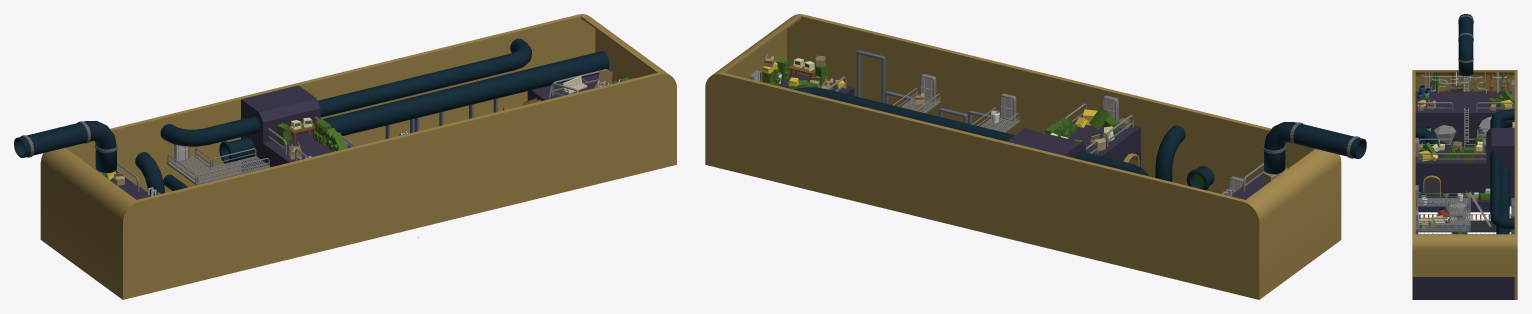
File: Room1Model.fbx
The picture shows the model from 3 angles, left to right: view 1: azimuth 30°, elevation 25°; view 2: azimuth 150°, elevation 25°; view 3: azimuth 270°, elevation 25°; orthographic projection. The views are drawn at different scales.
Parts seen in each view (by area): view 1: R1 Wall, Pipe .017, Pipe .018, R1A2 Platform, IN_Pipe.002, Cube.104, Cube.086, Pipe .024, Cube.082, Cube.105; view 2: R1 Wall, IN_Pipe.002, R1A2 Platform, Pipe .018, Pipe .026, Cube.086, Cube.162, Cube.100, Pipe .001; view 3: R1 Wall, R1A2 Platform, Cube.081, Cube.082, Pipe .018, IN_Pipe.002, Cube.087, Pipe .017, Cube.086, Cube.134, Cube.127, Cube.128 (+21 smaller).
Part boxes in pixels (bbox=[...]): R1 Wall: bbox=[40, 14, 676, 299]; Pipe .017: bbox=[219, 51, 609, 165]; Pipe .018: bbox=[160, 38, 531, 146]; R1A2 Platform: bbox=[241, 85, 335, 171]; IN_Pipe.002: bbox=[14, 121, 117, 173]; Cube.104: bbox=[169, 156, 268, 182]; Cube.086: bbox=[277, 119, 346, 151]; Pipe .024: bbox=[135, 152, 164, 195]; Cube.082: bbox=[527, 73, 599, 101]; Cube.105: bbox=[167, 156, 270, 185]; R1 Wall: bbox=[705, 14, 1341, 299]; IN_Pipe.002: bbox=[1263, 122, 1366, 174]; R1A2 Platform: bbox=[1007, 115, 1140, 167]; Pipe .018: bbox=[794, 87, 1148, 176]; Pipe .026: bbox=[1155, 125, 1185, 181]; Cube.086: bbox=[1045, 107, 1118, 142]; Cube.162: bbox=[762, 58, 827, 87]; Cube.100: bbox=[856, 50, 885, 103]; Pipe .001: bbox=[1186, 166, 1214, 190]; R1 Wall: bbox=[1412, 70, 1517, 299]; R1A2 Platform: bbox=[1415, 128, 1514, 206]; Cube.081: bbox=[1415, 91, 1514, 145]; Cube.082: bbox=[1413, 277, 1514, 299]; Pipe .018: bbox=[1490, 109, 1514, 229]; IN_Pipe.002: bbox=[1458, 14, 1473, 75]; Cube.087: bbox=[1418, 177, 1490, 212]; Pipe .017: bbox=[1496, 166, 1509, 234]; Cube.086: bbox=[1420, 137, 1482, 161]; Cube.134: bbox=[1418, 220, 1511, 232]; Cube.127: bbox=[1417, 198, 1469, 213]; Cube.128: bbox=[1418, 214, 1469, 229].
Bounding box in the file's own units: 16875 × 3896 × 4534.
